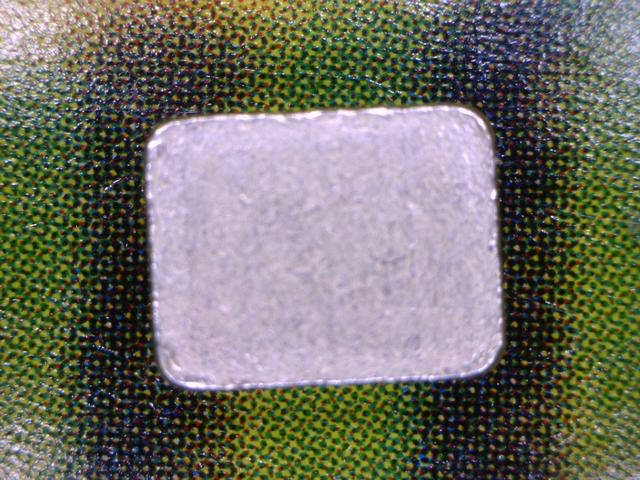ok: (143, 102, 507, 387)
